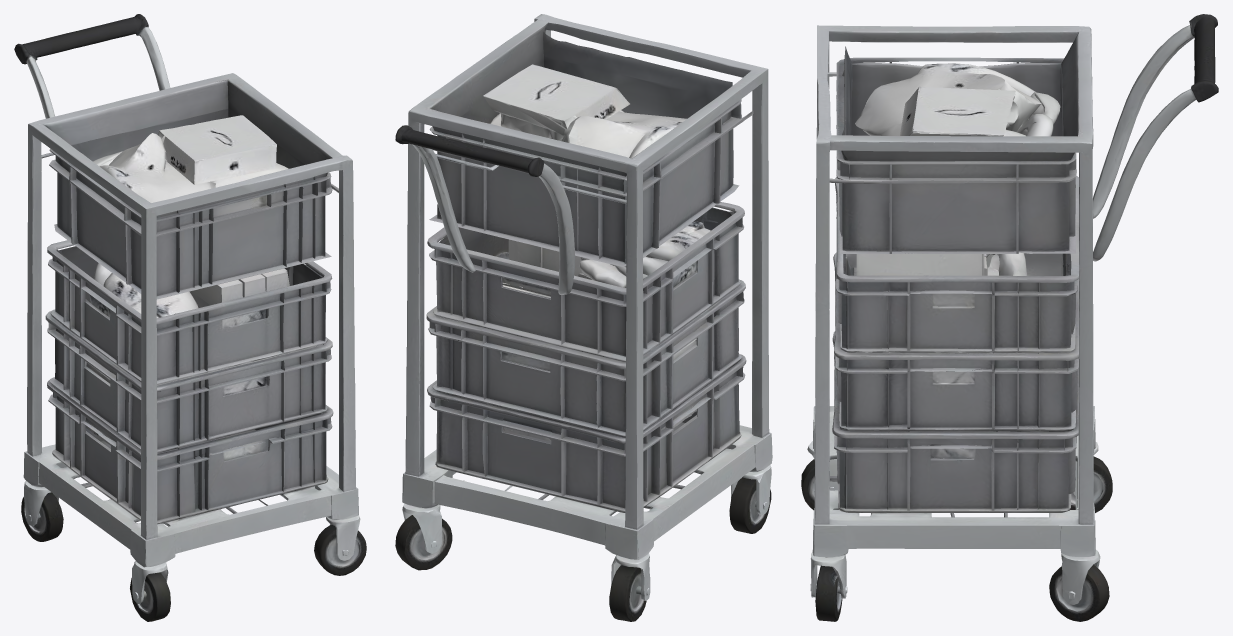
Rendered from carrinho.glb.
3 views of the same model, side by side, from view 1: azimuth 30°, elevation 25°; view 2: azimuth 150°, elevation 25°; view 3: azimuth 270°, elevation 25° (orthographic). The views are drawn at different scales.
Parts seen in each view (by area): view 1: model; view 2: model; view 3: model.
Part boxes in pixels (x1,y1,x2,y2): model: (14, 14, 366, 621); model: (395, 14, 772, 621); model: (801, 14, 1218, 621).
Size of the model in its own units: 1.01 by 1.9 by 1.39.
1 material, 1 textured.
